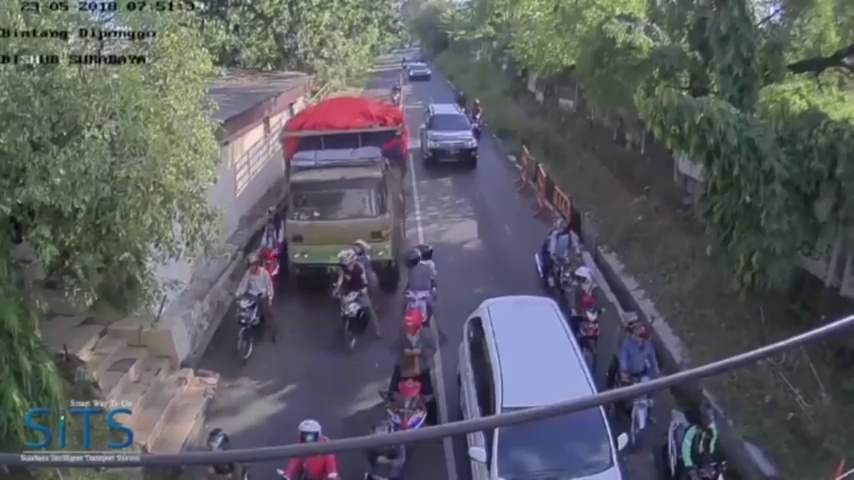car: (456, 293, 628, 480), (283, 98, 406, 288), (421, 100, 480, 171), (409, 60, 431, 82)
motorbike: (379, 308, 443, 438), (334, 243, 386, 352), (612, 311, 654, 445), (403, 248, 449, 362), (234, 255, 278, 366), (569, 267, 604, 377), (536, 218, 573, 302), (257, 206, 283, 279)
